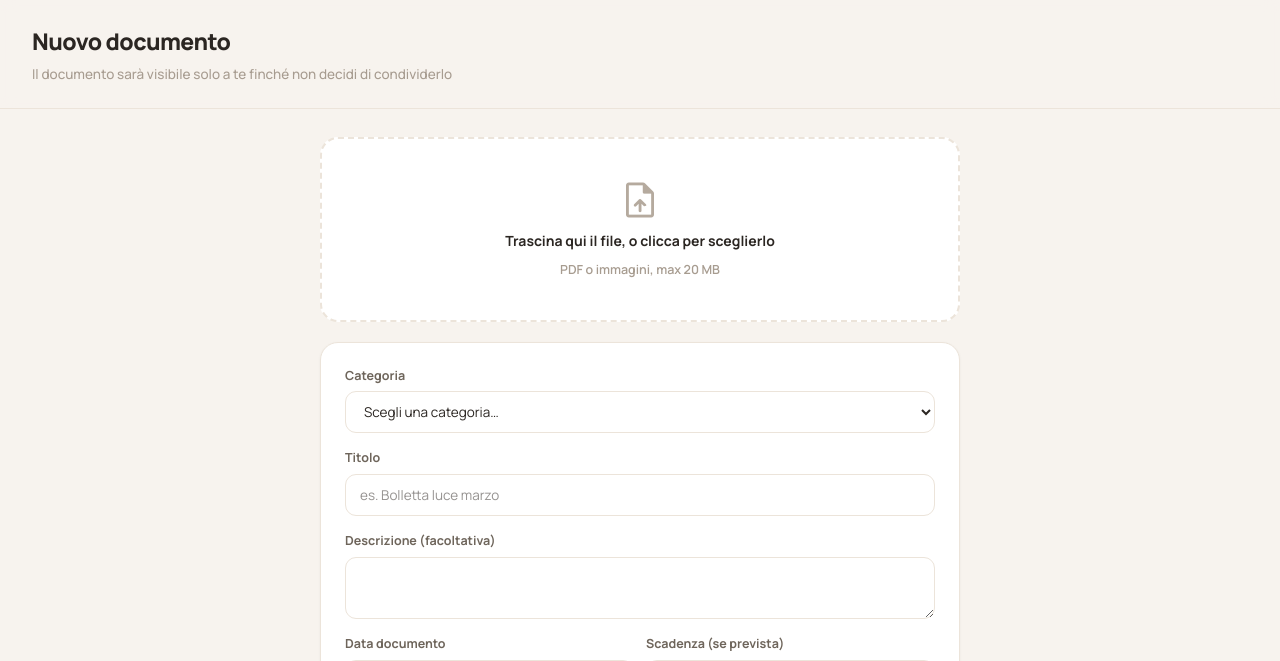
it: UploadView — campi condizionali per categoria › mostra il selettore veicolo solo per categorie di tipo auto
The image size is (1280, 661).
Select "Visita medica" in the dropdown labelled "Categoria" at (640, 412), box [345,391,935,433]
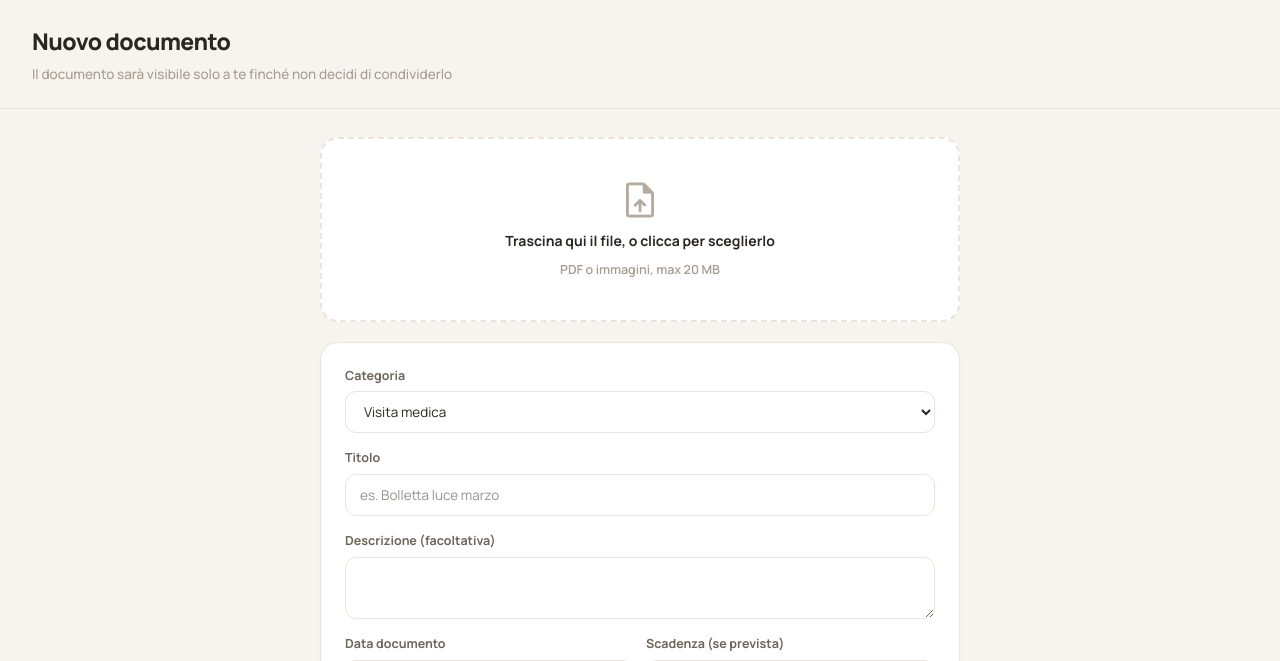
Expected: the text "Veicolo" is not shown
Select "Bollo auto" in the dropdown labelled "Categoria" at (640, 412), box [345,391,935,433]
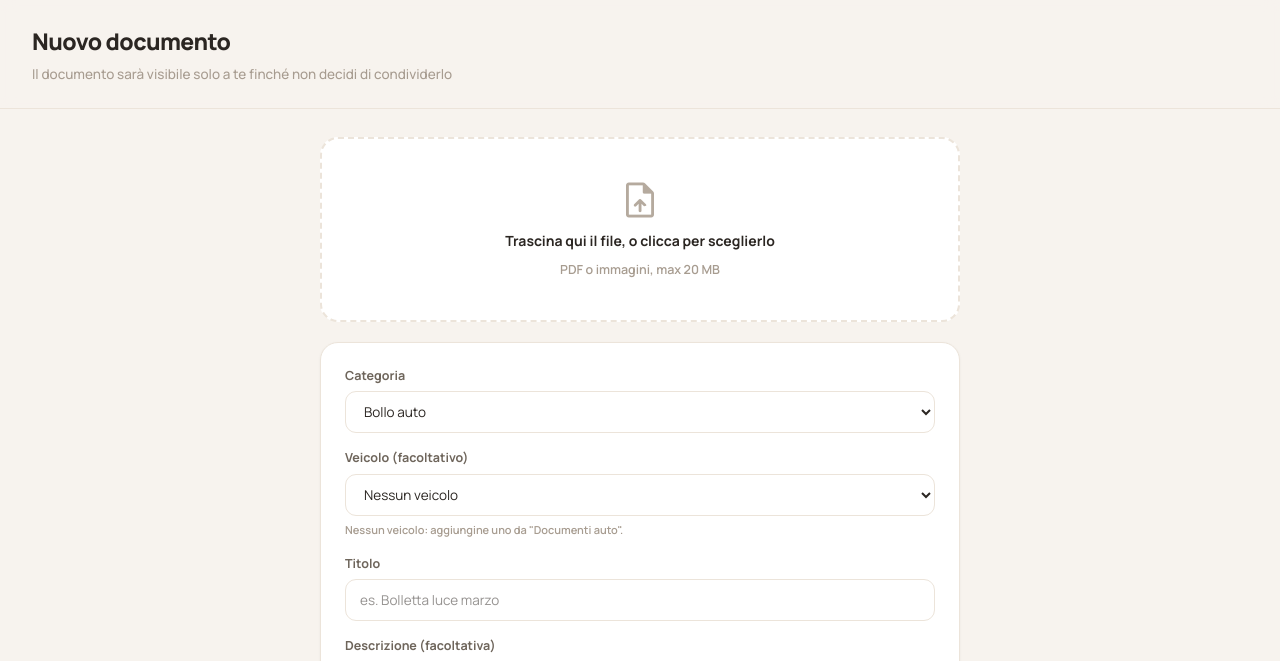
Now the text "Veicolo" is shown, box [345,449,468,466]
